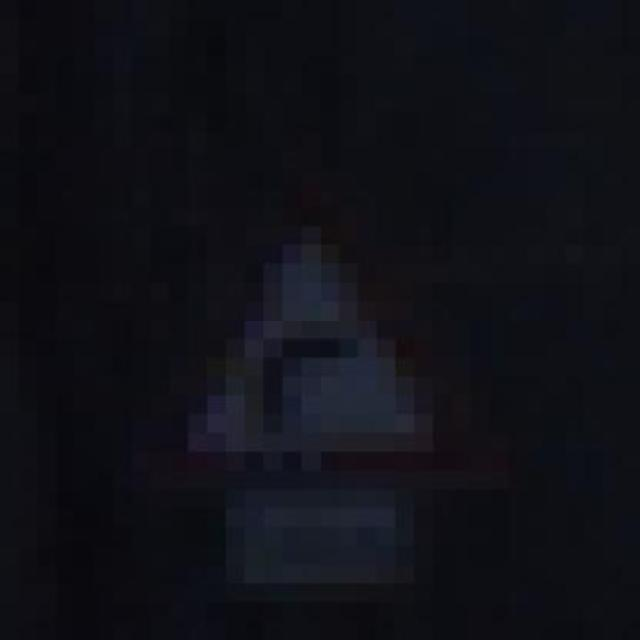Dangerous Rright Curve Ahead: (151, 169, 471, 508)
